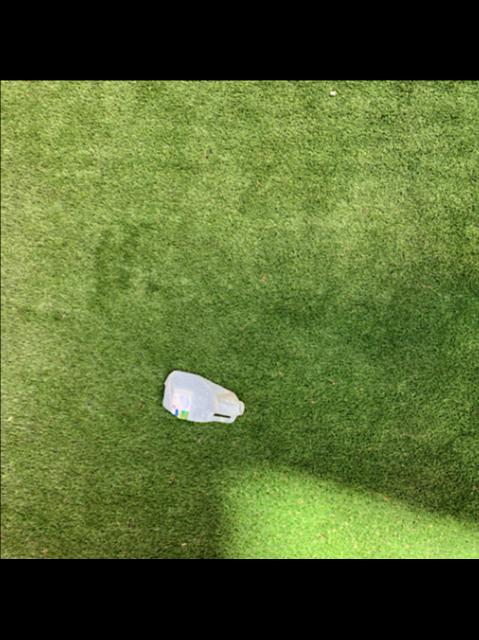plastic: (160, 372, 240, 424)
